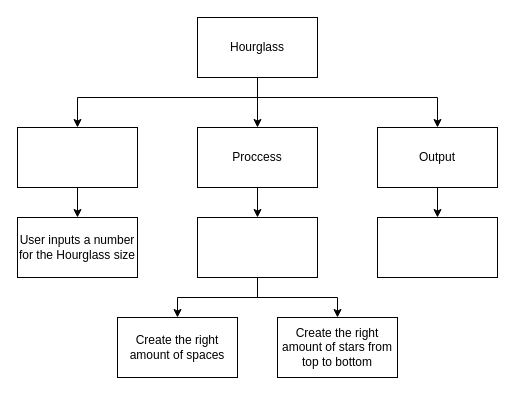
This 515x395 diagram has some shape labels left out. The box of each missing label's shape, as (x1, y1, x2, y2) in pixels:
Input: (16, 126, 138, 188)
Shows the hourglass size based on the input: (376, 216, 498, 278)
The number is processed through the code: (196, 216, 318, 278)
